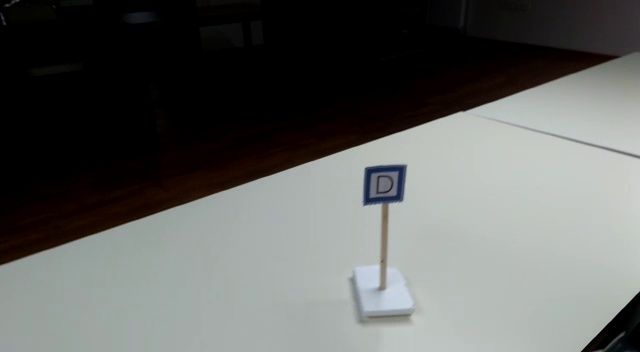durak: (364, 163, 407, 207)
